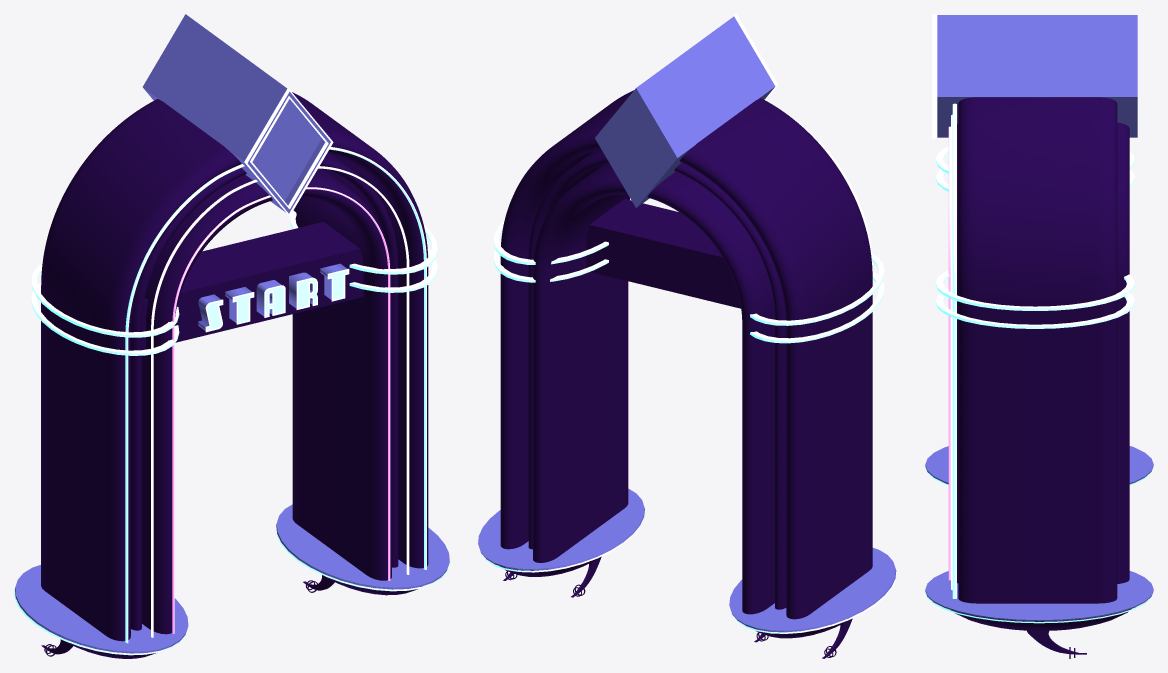
The model's file is startArch.glb.
3 views of the same model, side by side, from view 1: azimuth 30°, elevation 25°; view 2: azimuth 150°, elevation 25°; view 3: azimuth 270°, elevation 25° (orthographic). The views are drawn at different scales.
Parts seen in each view (by area): view 1: outsideArc, insideArc, Diamond.002, Cube.007, MiddleArc, Circle.007, Circle.001, insideArcNeon.002, insideArcNeon.001, insideArcNeon, StartMetal, StartBlue (+6 smaller); view 2: outsideArc, insideArc, Diamond.002, Cube.007, MiddleArc, Circle.007, Circle.001, Circle.123, Circle.124, Circle.122, Circle.121; view 3: outsideArc, Diamond.002, insideArc, Circle.001, insideArcNeon.002, Circle.122, Circle.007, insideArcNeon, Circle.121, Sphere.001, insideArcNeon.001, Diamond.001 (+2 smaller).
Boxes of the visible parts, x1,y1,x2,y2 form: outsideArc: (41, 92, 428, 641); insideArc: (142, 168, 391, 634); Diamond.002: (143, 14, 330, 213); Cube.007: (142, 222, 363, 349); MiddleArc: (131, 153, 398, 630); Circle.007: (15, 565, 188, 653); Circle.001: (276, 504, 449, 589); insideArcNeon.002: (125, 147, 426, 643); insideArcNeon.001: (151, 166, 409, 637); insideArcNeon: (172, 187, 390, 633); StartMetal: (198, 263, 347, 330); StartBlue: (207, 270, 347, 330); outsideArc: (500, 90, 872, 619); insideArc: (533, 163, 774, 614); Diamond.002: (595, 16, 775, 207); Cube.007: (586, 199, 740, 308); MiddleArc: (528, 149, 786, 609); Circle.007: (729, 548, 896, 632); Circle.001: (478, 488, 644, 570); Circle.123: (750, 254, 884, 325); Circle.124: (750, 272, 884, 343); Circle.122: (494, 198, 631, 264); Circle.121: (494, 241, 608, 282); outsideArc: (958, 97, 1117, 603); Diamond.002: (937, 15, 1137, 137); insideArc: (957, 122, 1129, 583); Circle.001: (925, 571, 1153, 621); insideArcNeon.002: (952, 103, 956, 598); Circle.122: (935, 270, 1134, 310); Circle.007: (925, 446, 1153, 484); insideArcNeon: (948, 126, 950, 580); Circle.121: (935, 288, 1134, 328); Sphere.001: (951, 608, 1131, 630); insideArcNeon.001: (951, 114, 952, 590); Diamond.001: (932, 14, 937, 138).
Size of the model in its own units: 19.09 by 26.91 by 9.85.
